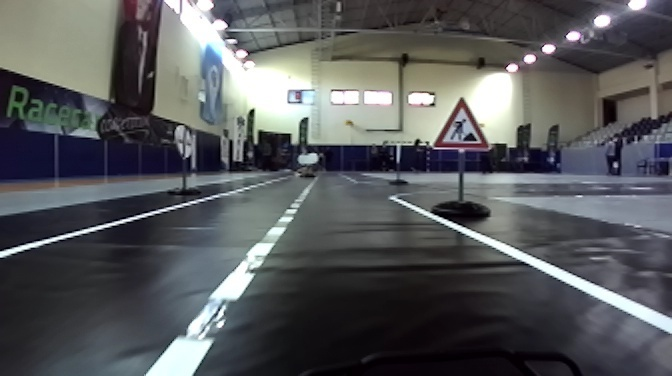yol_yapimi: (427, 95, 489, 151)
